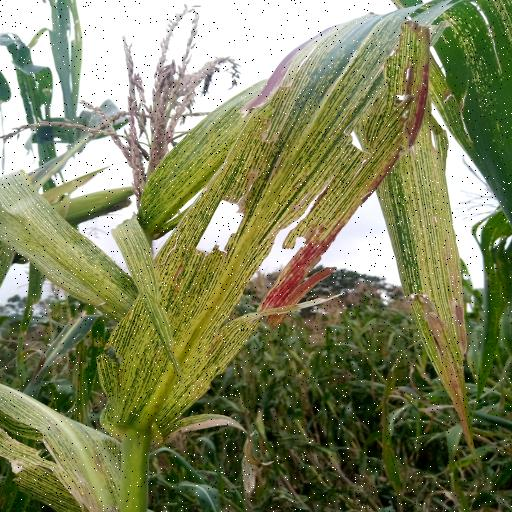Corn_Streak: (118, 6, 468, 437)
